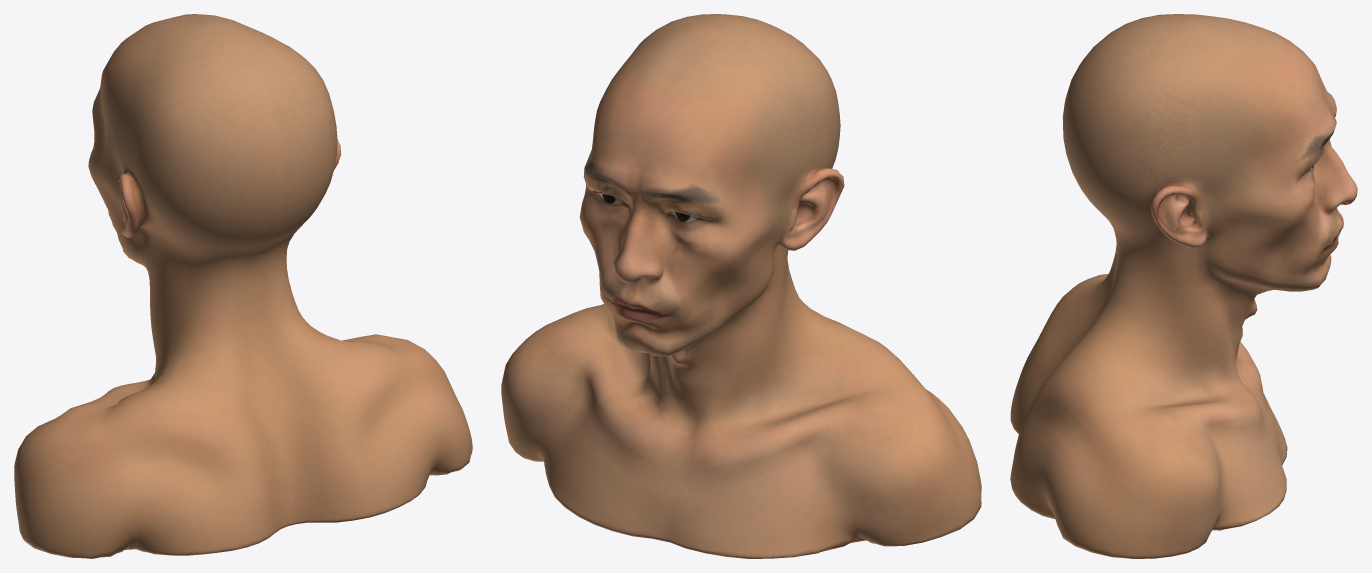
The model's file is Model_HairHead_LiuWencai.glb.
3 renders of one model, left to right at view 1: azimuth 30°, elevation 25°; view 2: azimuth 150°, elevation 25°; view 3: azimuth 270°, elevation 25°, orthographic. The views are drawn at different scales.
Parts seen in each view (by area): view 1: HairHead_LiuWencai; view 2: HairHead_LiuWencai; view 3: HairHead_LiuWencai.
Part boxes in pixels (x1,y1,x2,y2): HairHead_LiuWencai: (14, 14, 472, 558); HairHead_LiuWencai: (501, 14, 981, 558); HairHead_LiuWencai: (1010, 14, 1357, 558).
Bounding box in the file's own units: 0.4017 × 0.4036 × 0.2849.
1 material, 1 textured.
